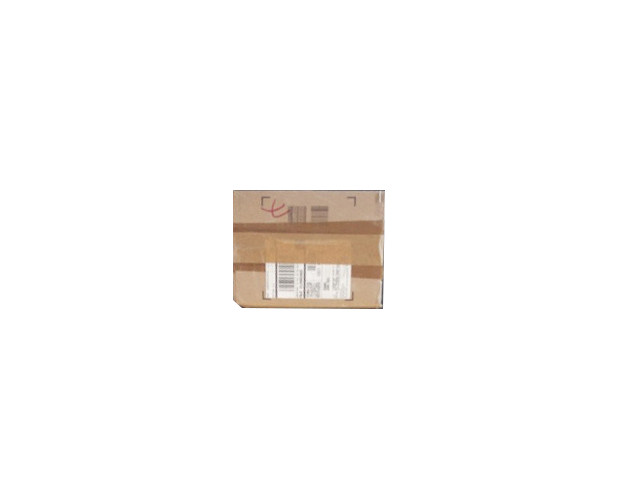cardboard: (228, 191, 382, 306)
